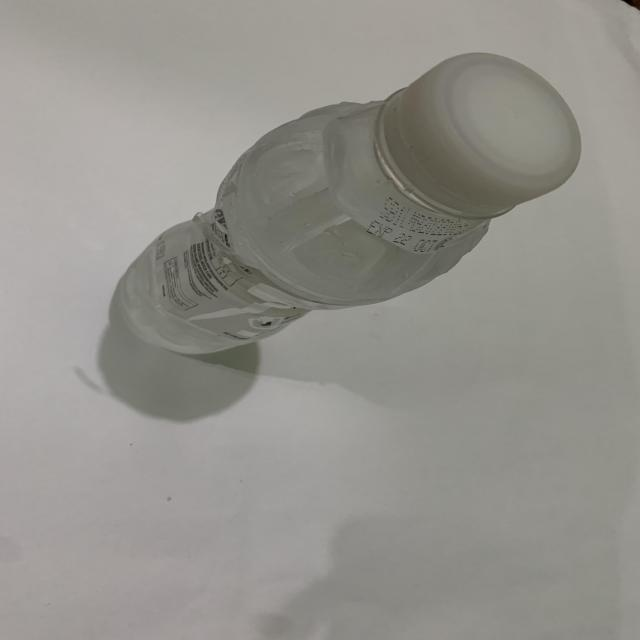bottle: (81, 45, 563, 402)
